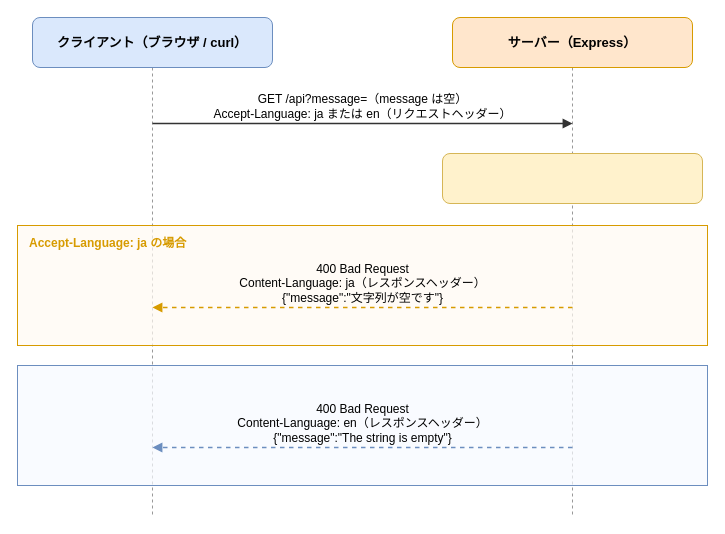
Some shapes in this 725 by 534 pixel diagram are drawn without their labels. Each missing label, with the centre of its shape:
Accept-Language に en が含まれる？ → 含まれれば en、それ以外は ja: (572,178)
Accept-Language: en の場合: (362,425)
